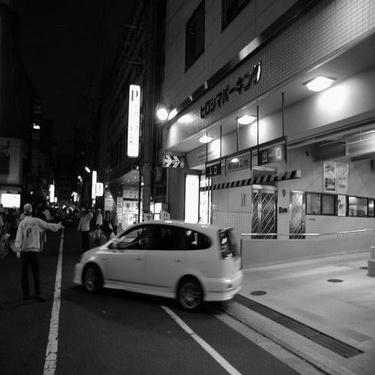car: (72, 213, 250, 317)
